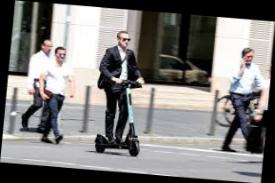nonhelmet: (89, 28, 152, 158)
